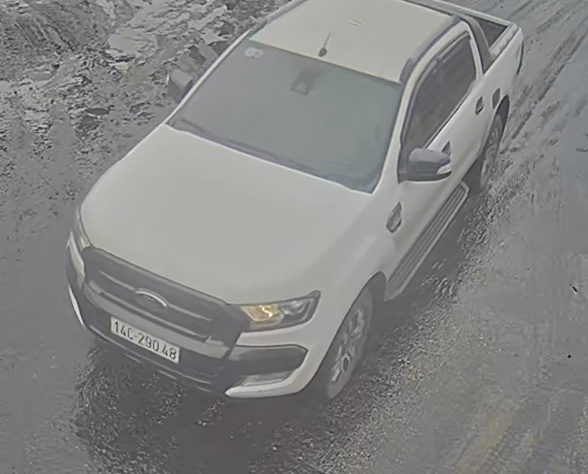vehicle plate: (104, 310, 183, 369)
